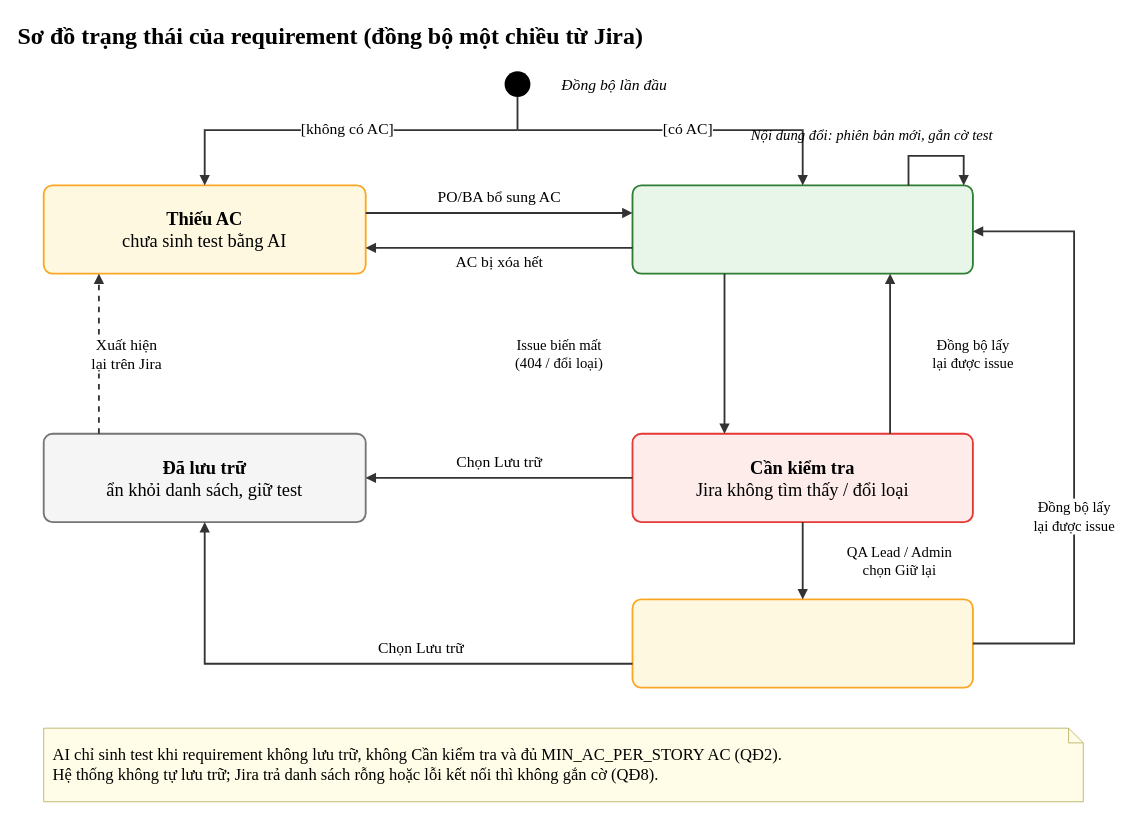
This 1146x818 diagram has some shape labels left out. The box of each missing label's shape, as (x1, y1, x2, y2) in pixels:
Bình thường sinh, viết, chạy test được: (631, 184, 973, 274)
Cần kiểm tra – đã chọn Giữ lại cờ vẫn còn: (631, 598, 973, 688)
